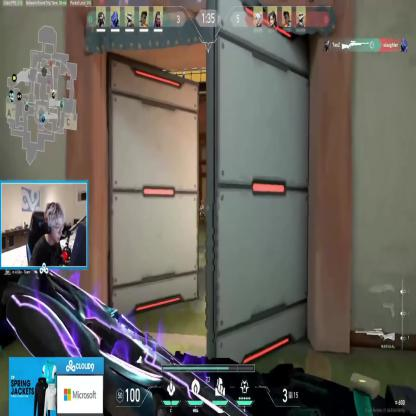enemy: (198, 200, 205, 224)
enemy_head: (200, 201, 202, 206)
